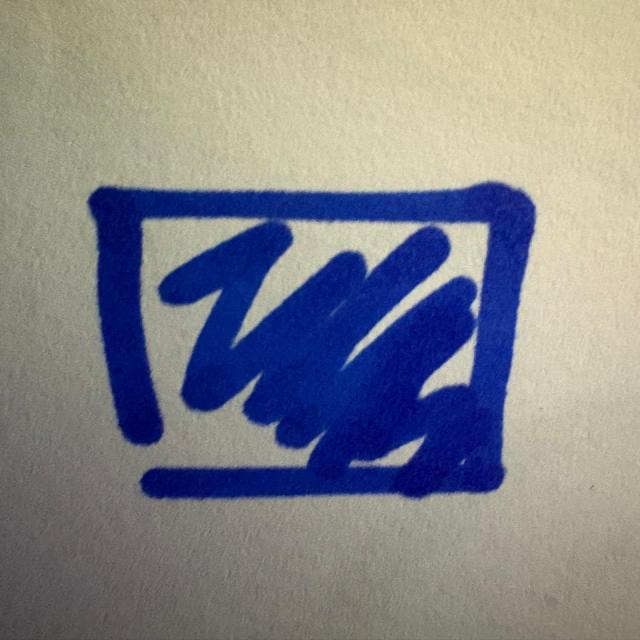Square: (74, 173, 538, 504)
